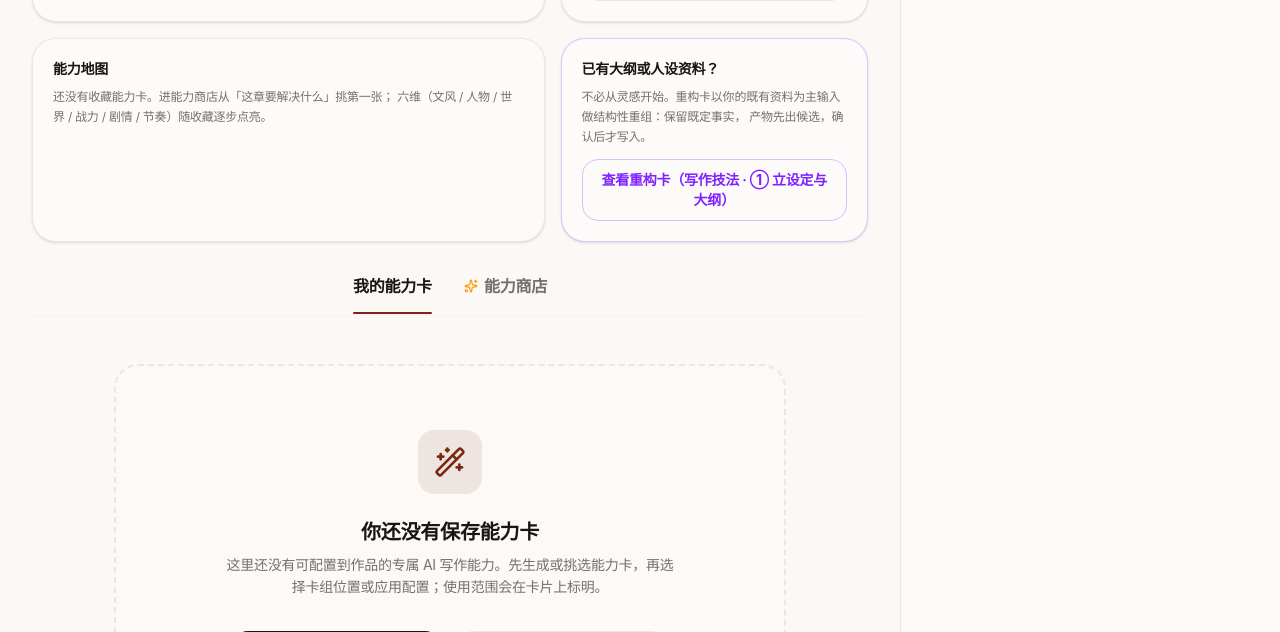
Test: Plan 158 capability center › explains unavailable and import-gated package components
(page scrolled)
Click the button "能力商店": click(505, 294) x1=464 y1=274 x2=547 y2=314
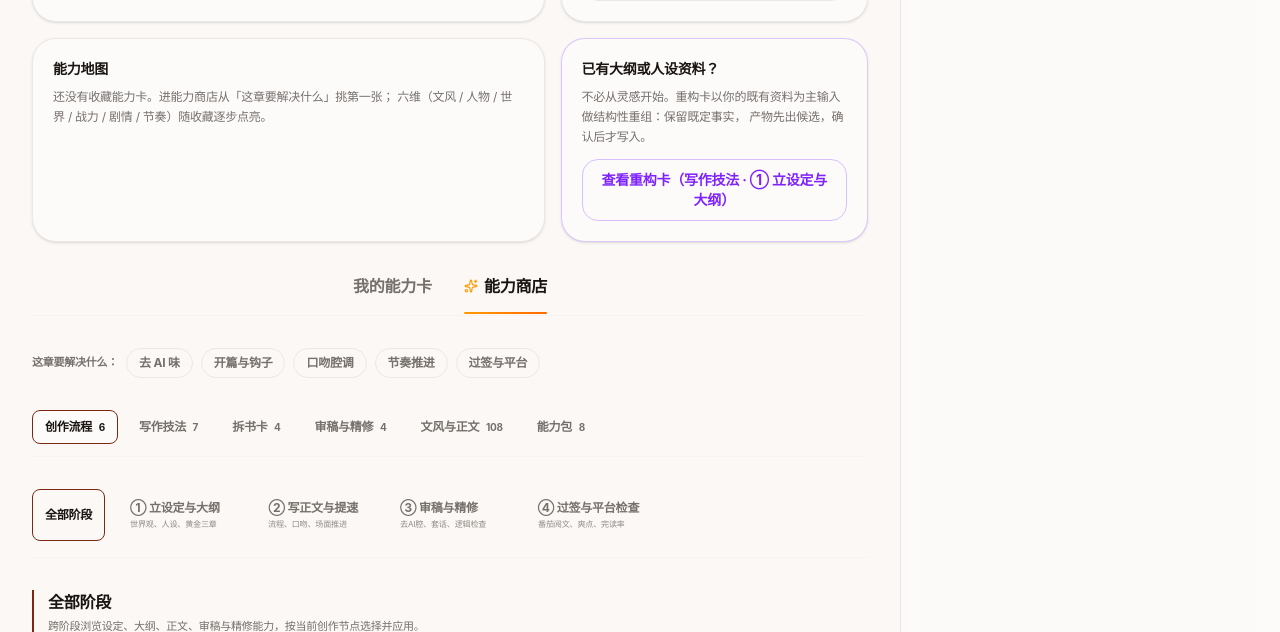
Check: the tab "能力包 8" is shown
Click the tab "能力包 8": click(561, 426) x1=524 y1=410 x2=598 y2=444
(page scrolled)
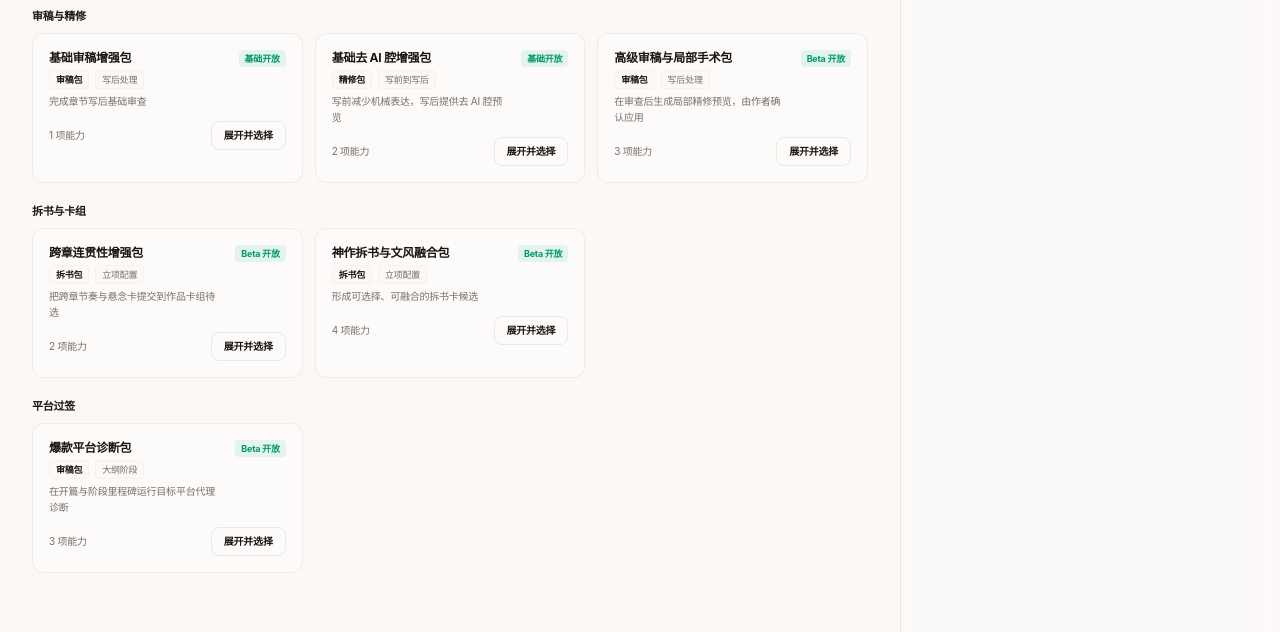
Check: the text "爆款平台诊断包" is shown, box x1=49 y1=440 x2=131 y2=454
Click the button "展开并选择" below "在开篇与阶段里程碑运行目标平台代理诊断": click(248, 542) x1=211 y1=527 x2=286 y2=556
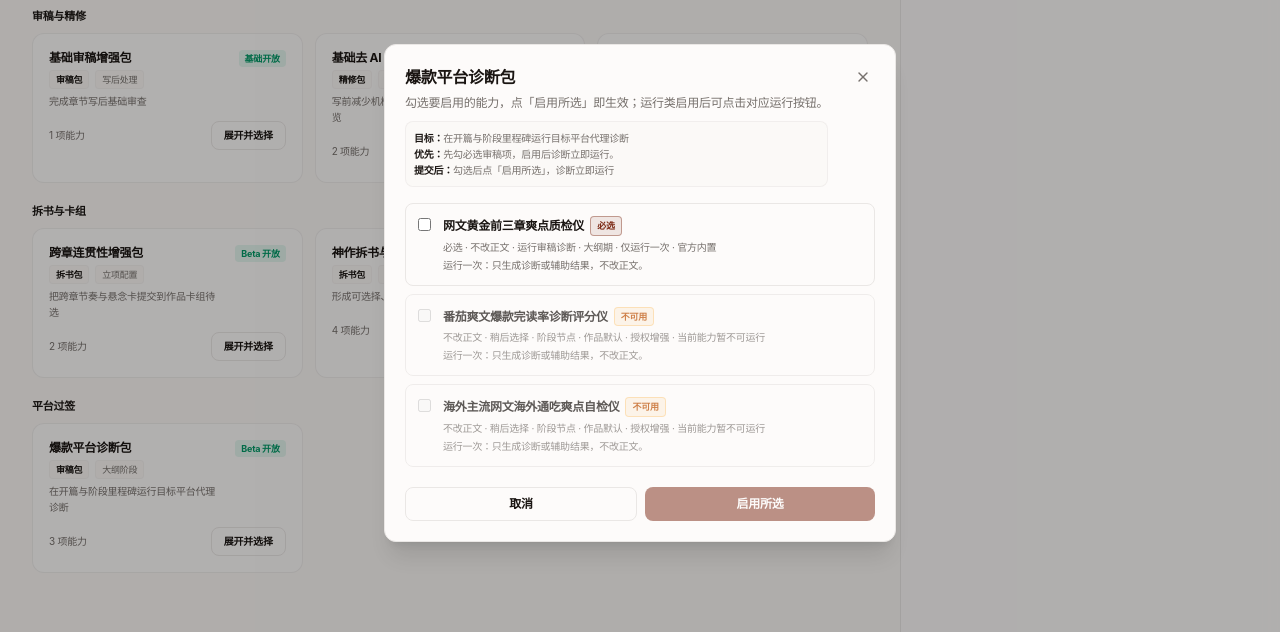
Check: the text "不改正文 · 稍后选择 · 阶段节点 · 作品默认 · 授权增强 · 当前能力暂不可运行" below "番茄爽文爆款完读率诊断评分仪" is shown, box x1=669 y1=331 x2=765 y2=343
Click the button named "关闭能力包": click(863, 77) x1=851 y1=65 x2=875 y2=89
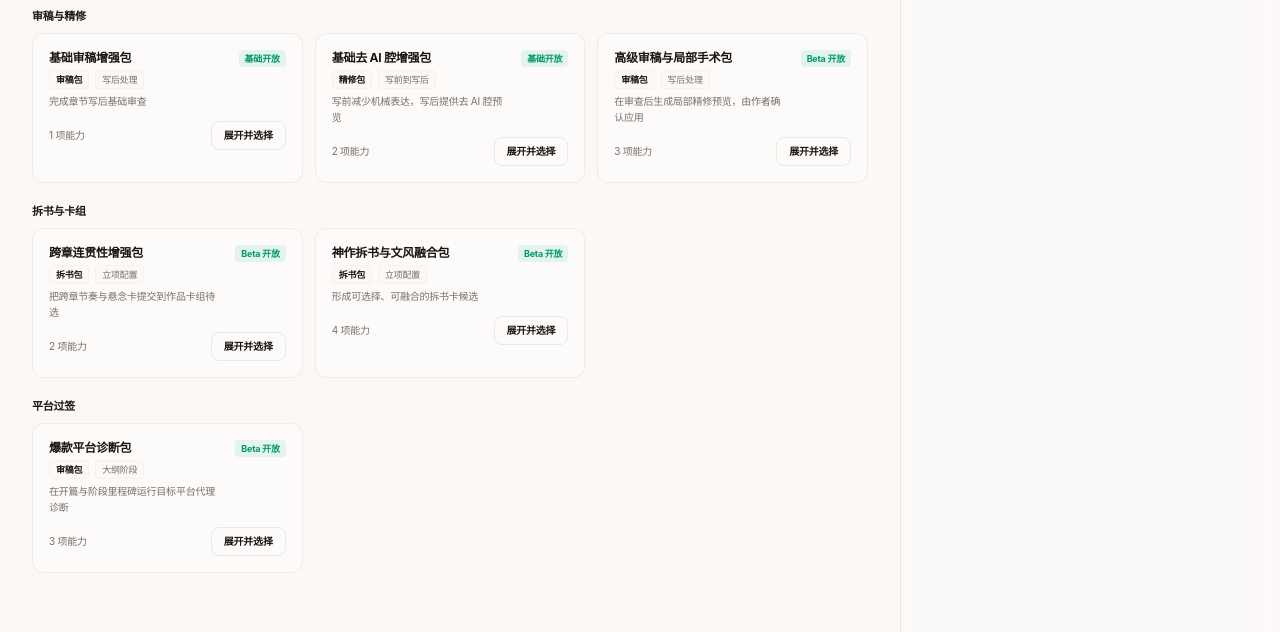
Check: the text "神作拆书与文风融合包" is shown, box x1=332 y1=244 x2=449 y2=260
Click the button "展开并选择" below "形成可选择、可融合的拆书卡候选": click(531, 330) x1=494 y1=316 x2=568 y2=345
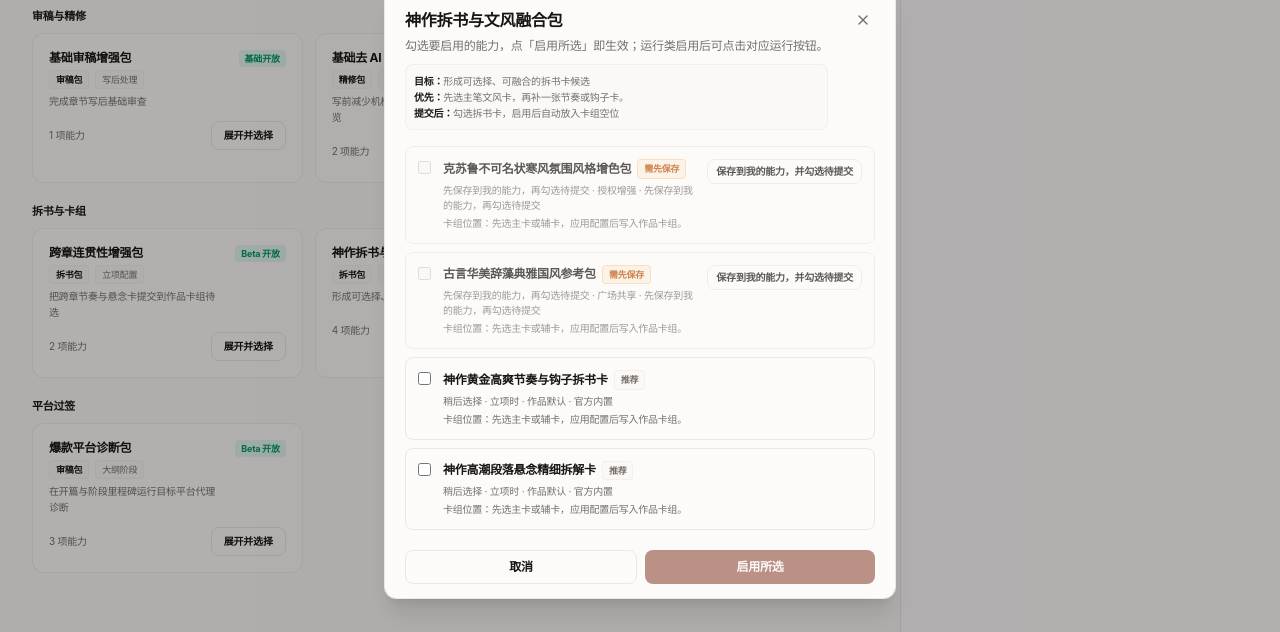
Check: the text "先保存到我的能力，再勾选待提交 · 授权增强 · 先保存到我的能力，再勾选待提交" is shown, box x1=443 y1=182 x2=695 y2=212
Check: the button "保存到我的能力，并勾选待提交" in the row of "克苏鲁不可名状寒风氛围风格增色包" is shown, box x1=707 y1=159 x2=862 y2=184
